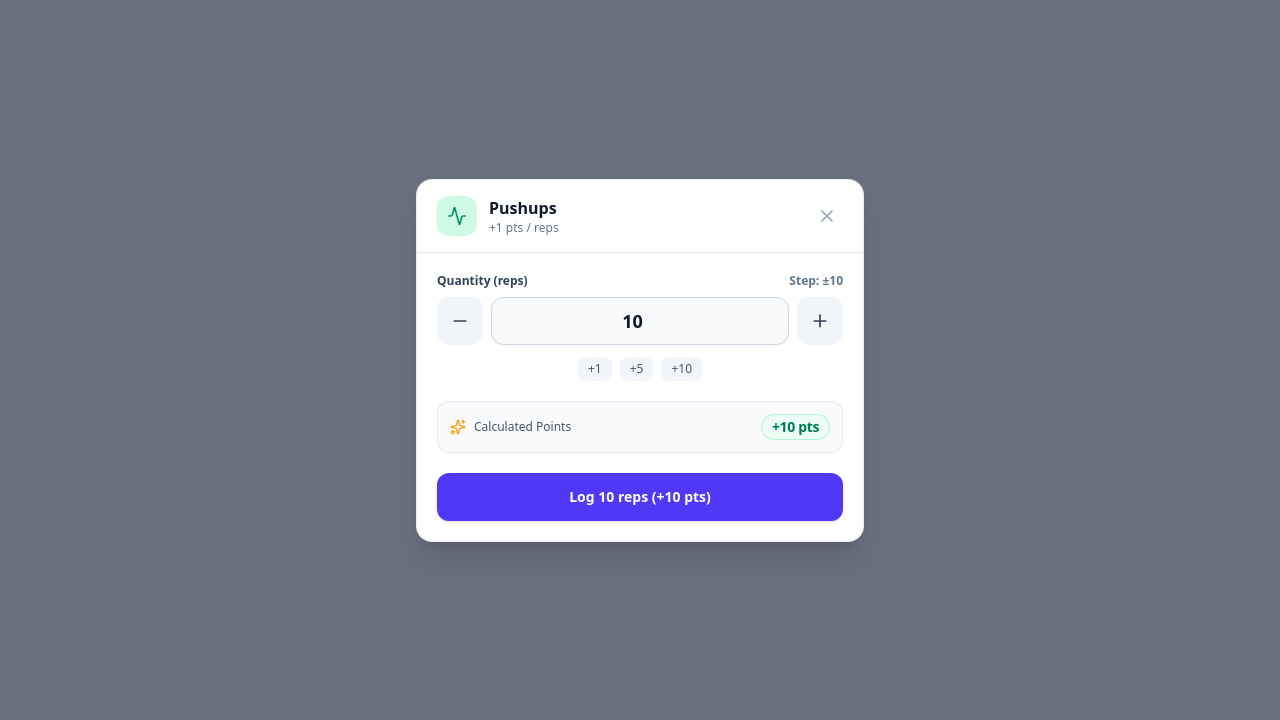
QuantityStepperModal › allows direct numeric input and updates calculated points
The width and height of the screenshot is (1280, 720).
Replace the text in the number field with test id "quantity-input" with "25": (640, 320) [491, 296, 789, 344]
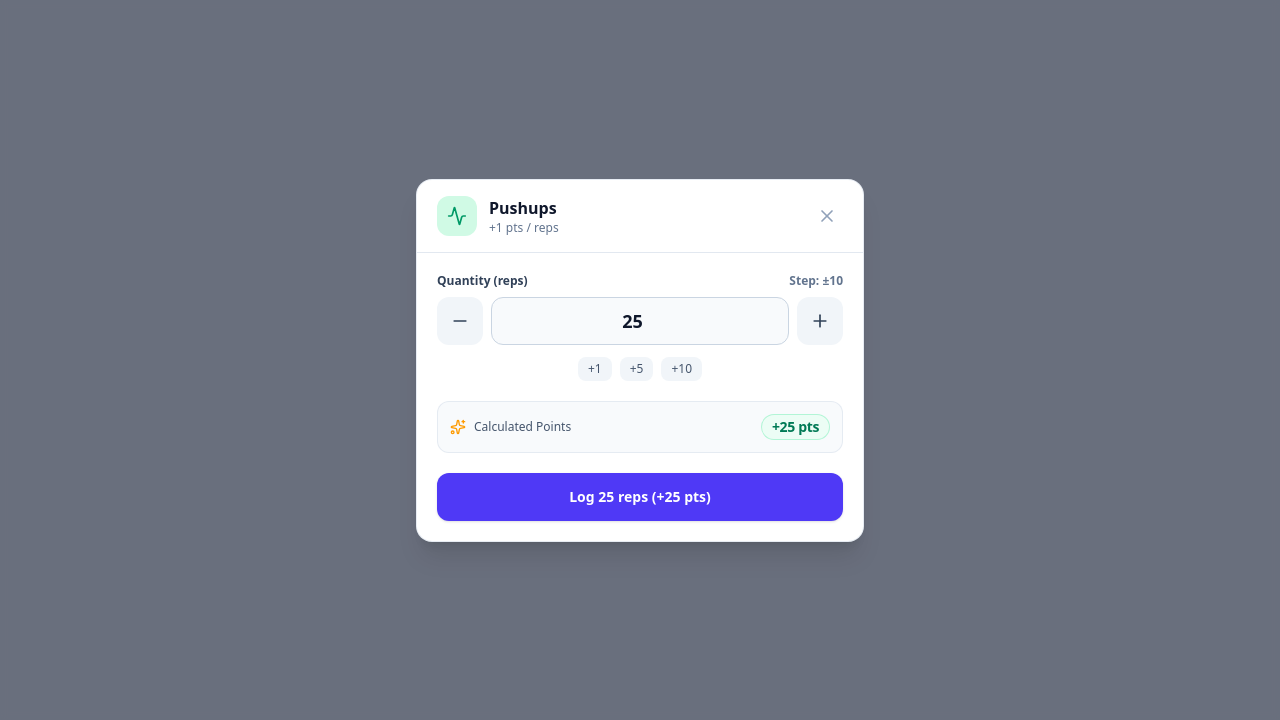
Result: the button with test id "quantity-submit-button" reads "Log 25 reps (+25 pts)" at [437, 472, 843, 520]
